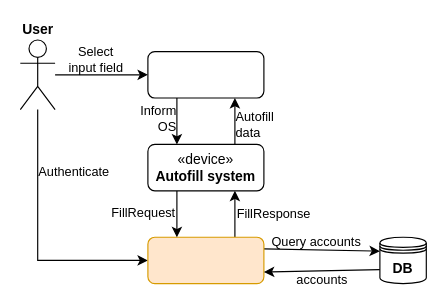
This 447x307 diagram has some shape labels left out. The centre of each missing label's shape, as x and y in pixels:
":feature:autofill" goes at point 205,260.
"Other app" goes at point 205,74.
